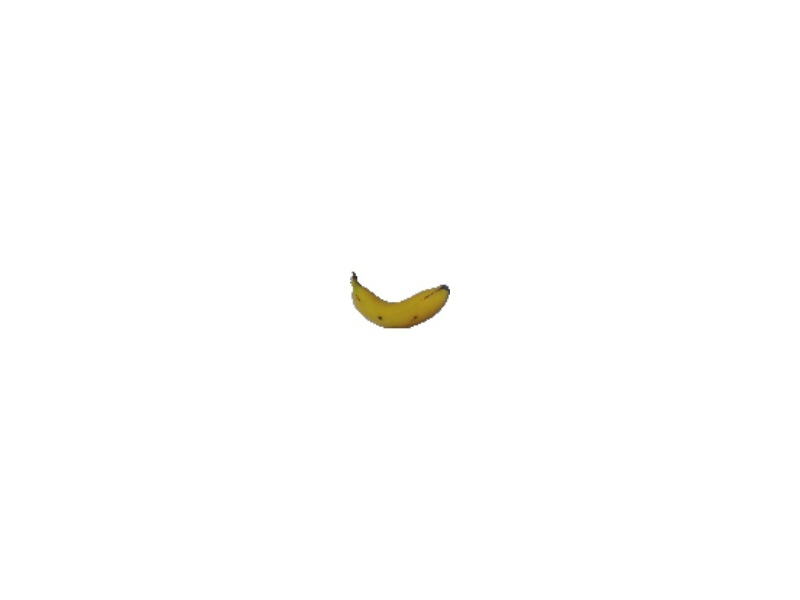banana: (348, 270, 453, 331)
